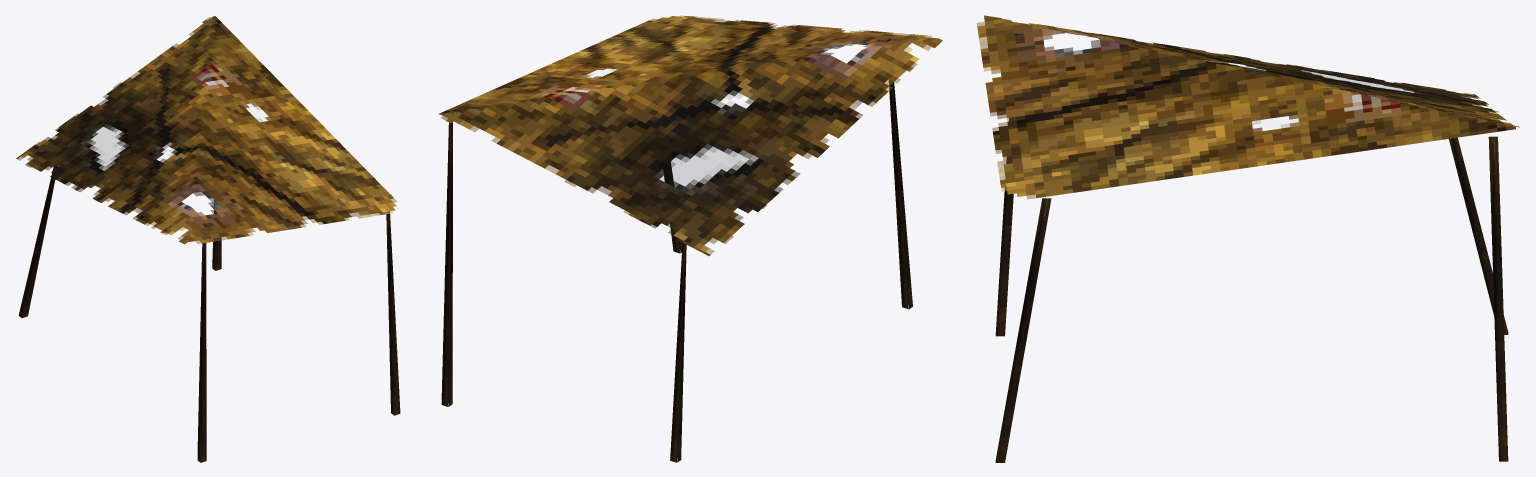
The model's file is Environment - Prop - Canvas Sun Shader - Damaged - PMCnvsShd_D.glb.
3 renders of one model, left to right at view 1: azimuth 30°, elevation 25°; view 2: azimuth 150°, elevation 25°; view 3: azimuth 270°, elevation 25°, orthographic. The views are drawn at different scales.
Parts seen in each view (by area): view 1: PMCNVSSHD_D; view 2: PMCNVSSHD_D; view 3: PMCNVSSHD_D.
Boxes of the visible parts, <box> form: PMCNVSSHD_D: <box>16,16,400,462</box>; PMCNVSSHD_D: <box>438,15,942,462</box>; PMCNVSSHD_D: <box>976,15,1519,462</box>.
Bounding box in the file's own units: 14.55 × 15.4 × 22.35.
1 material, 1 textured.
